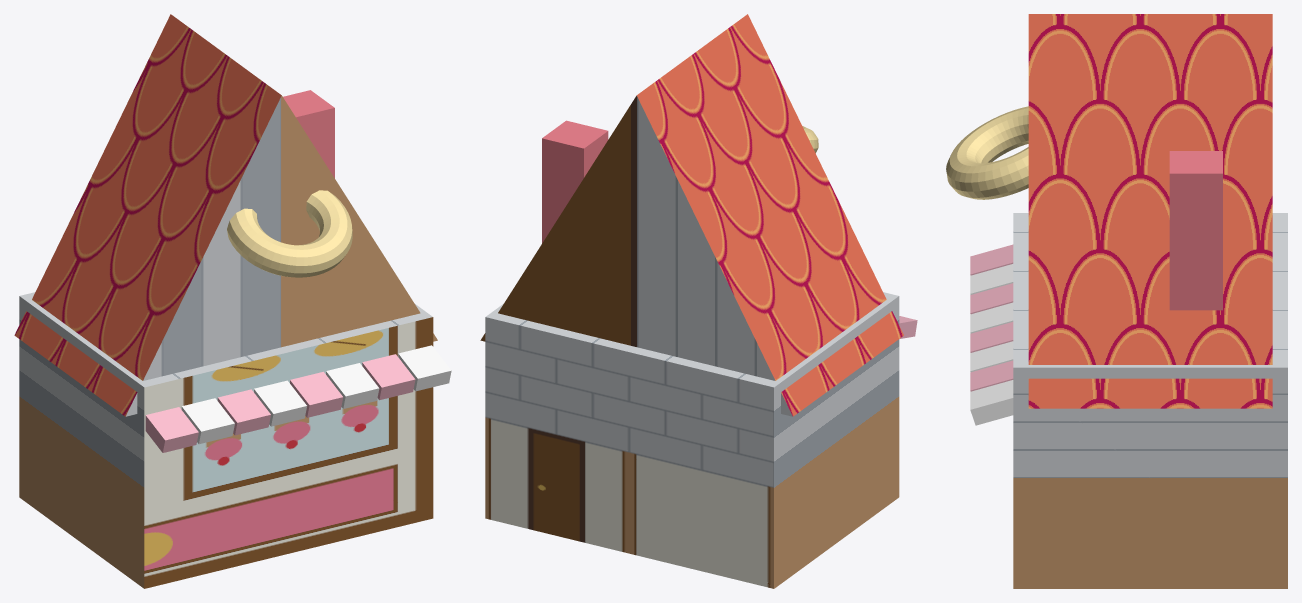
File: building_bakery.glb
The picture shows the model from 3 angles, left to right: view 1: azimuth 30°, elevation 25°; view 2: azimuth 150°, elevation 25°; view 3: azimuth 270°, elevation 25°; orthographic projection. The views are drawn at different scales.
Visible parts, largest first — view 1: building_bakery; view 2: building_bakery; view 3: building_bakery.
Part boxes in pixels (x1=…): building_bakery: x1=14, y1=14, x2=451, y2=588; building_bakery: x1=480, y1=14, x2=917, y2=588; building_bakery: x1=946, y1=14, x2=1287, y2=588.
Size of the model in its own units: 2.6 by 3.6 by 2.24.
7 materials, 3 textured.
